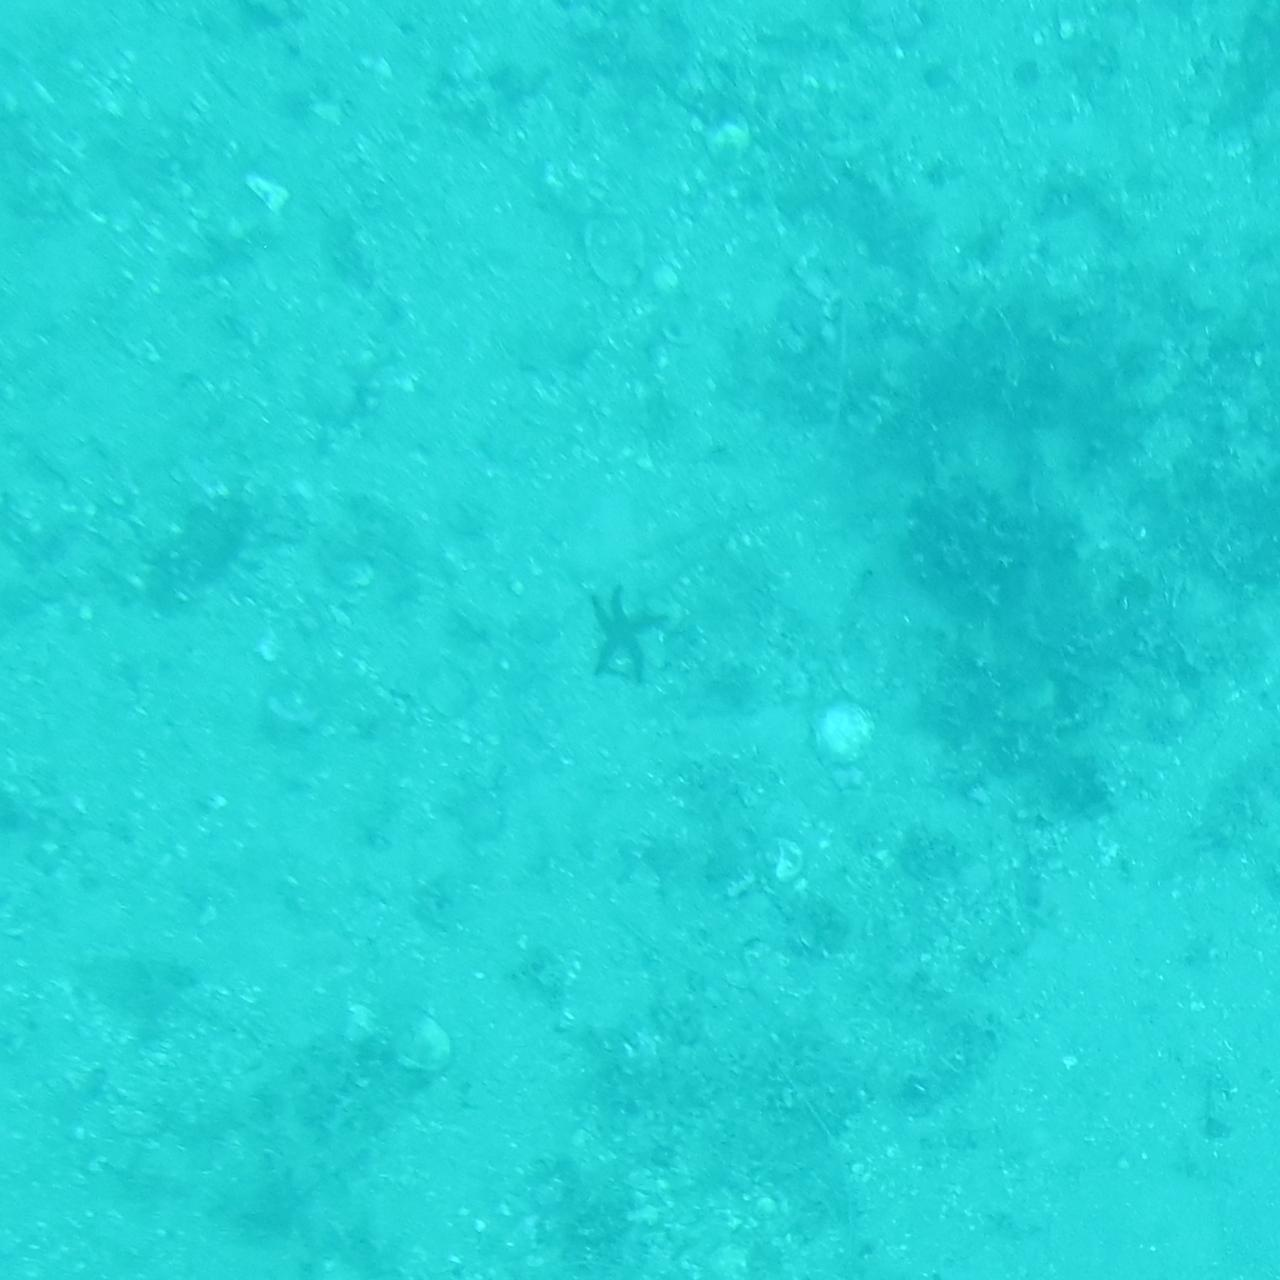Asteroidea: (577, 580, 703, 700)
